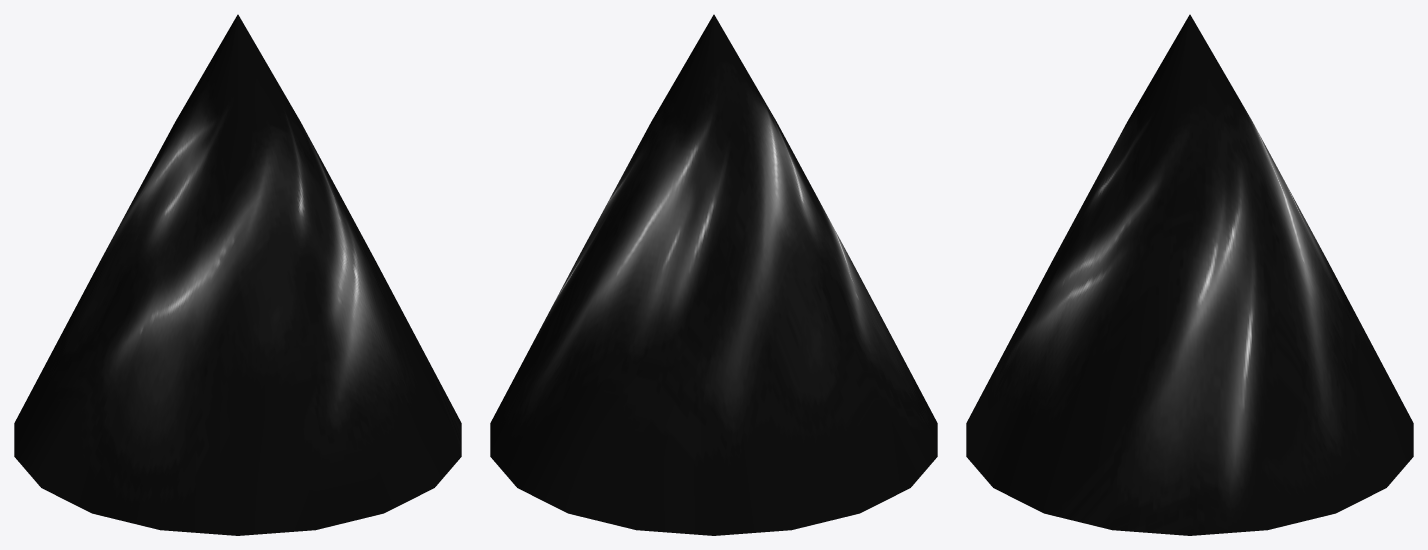
The model's file is cone_Y_down_hh.FBX.
3 renders of one model, left to right at view 1: azimuth 30°, elevation 25°; view 2: azimuth 150°, elevation 25°; view 3: azimuth 270°, elevation 25°, orthographic.
Visible parts, largest first — view 1: cone_Y_down_hh; view 2: cone_Y_down_hh; view 3: cone_Y_down_hh.
Part boxes in pixels (x1,y1,x2,y2): cone_Y_down_hh: [14, 14, 461, 535]; cone_Y_down_hh: [490, 14, 937, 535]; cone_Y_down_hh: [966, 14, 1413, 535].
Bounding box in the file's own units: 1.08 × 1.11 × 1.06.
Materials: 1 (1 with a texture image).
